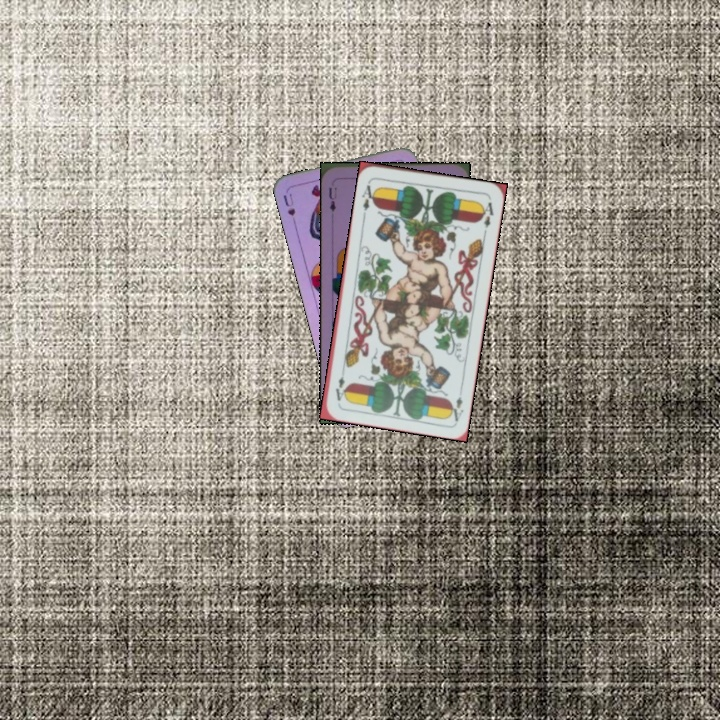EA: (358, 178, 379, 213), (445, 393, 466, 424)
EU: (325, 183, 339, 214)
SU: (279, 189, 299, 230)
